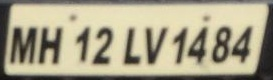character: (9, 26, 37, 65), (37, 26, 64, 65), (91, 26, 114, 65), (230, 26, 253, 64), (144, 26, 166, 65), (186, 26, 209, 63), (122, 26, 141, 64), (211, 25, 230, 63), (172, 25, 188, 64), (75, 26, 90, 63)
